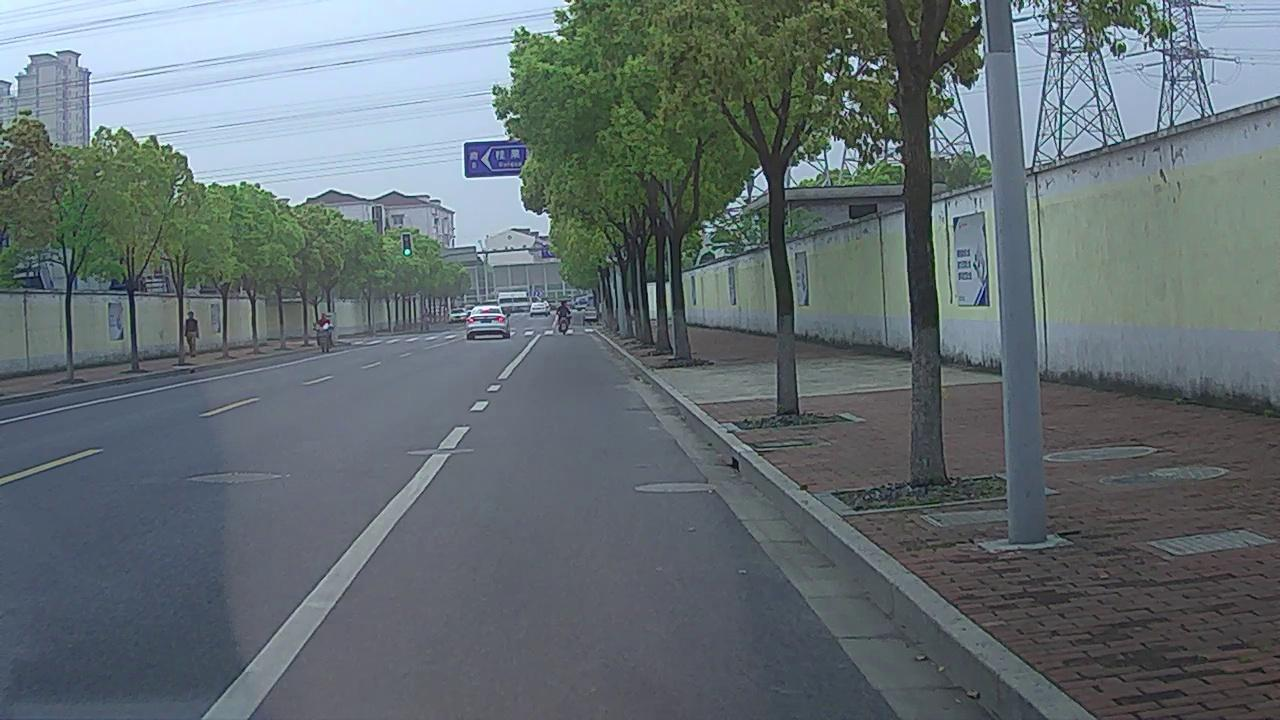traffic_light: (402, 235, 411, 256)
